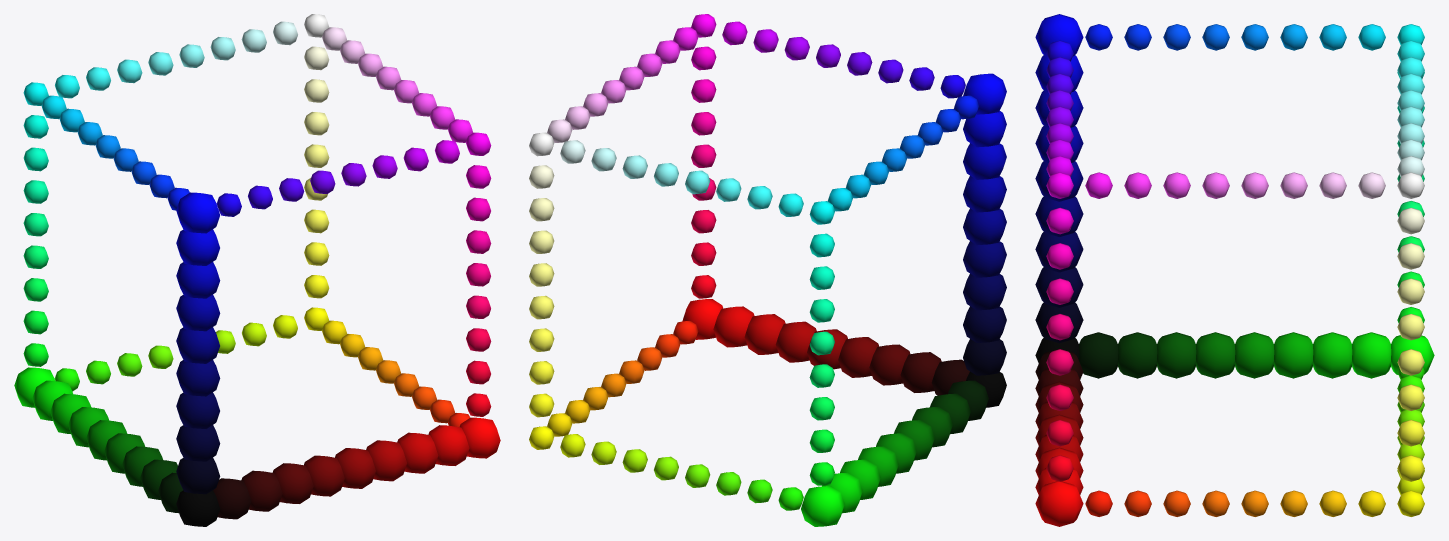
Rendered from Matlan-05.obj.
3 views of the same model, side by side, from view 1: azimuth 30°, elevation 25°; view 2: azimuth 150°, elevation 25°; view 3: azimuth 270°, elevation 25° (orthographic). The views are drawn at different scales.
Parts seen in each view (by area): view 1: Cube_(0,_0,_0)_Mesh_(0,_0,_0); view 2: Cube_(0,_0,_0)_Mesh_(0,_0,_0); view 3: Cube_(0,_0,_0)_Mesh_(0,_0,_0).
Part boxes in pixels (left/top/right/bottom): Cube_(0,_0,_0)_Mesh_(0,_0,_0): left=14, top=14, right=500, bottom=526; Cube_(0,_0,_0)_Mesh_(0,_0,_0): left=529, top=14, right=1006, bottom=526; Cube_(0,_0,_0)_Mesh_(0,_0,_0): left=1035, top=14, right=1434, bottom=526.
Bounding box in the file's own units: 18.2 × 18.2 × 18.2.
